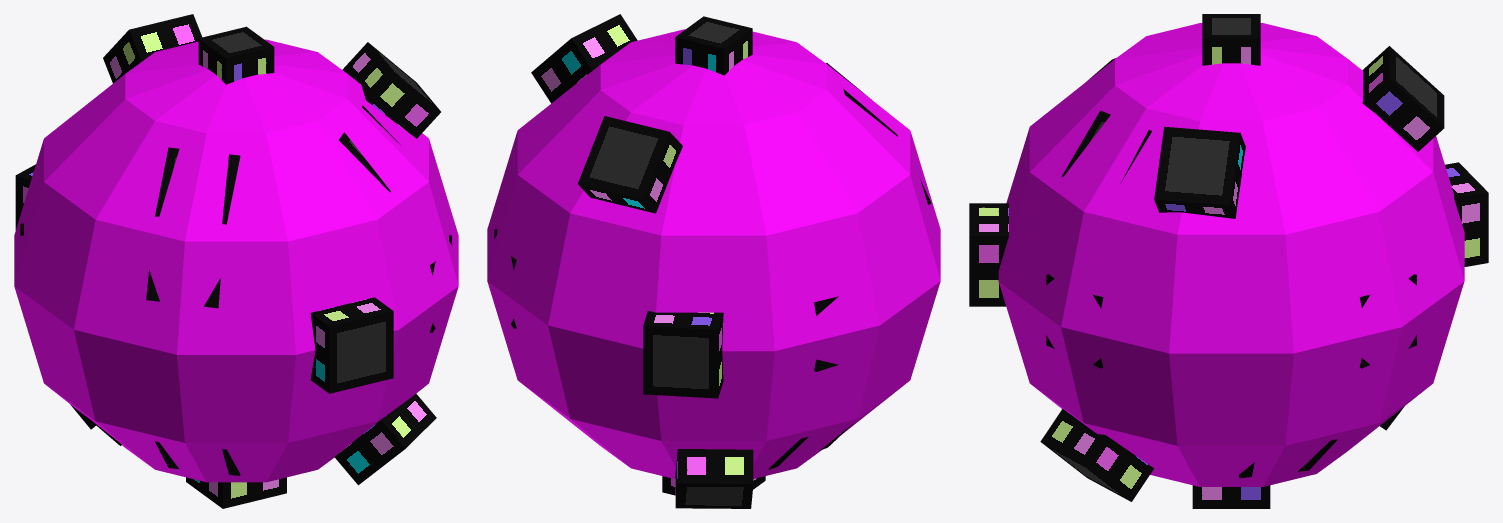
Rendered from World_4_Model.fbx.
3 views of the same model, side by side, from view 1: azimuth 30°, elevation 25°; view 2: azimuth 150°, elevation 25°; view 3: azimuth 270°, elevation 25° (orthographic). The views are drawn at different scales.
Visible parts, largest first — view 1: Glowing_3, Tall_Fat_2, Tall_Fat_5, Tall_Fat_3_1, Tall_1, Tall_Fat_4, Tall_Fat_3, Fat_6_1, Tall_Fat_1, Fat_4, Fat_5; view 2: Glowing_3, Tall_Fat_4, Tall_Fat_1, Tall_Fat_5_1, Tall_Fat_5, Tall_1; view 3: Glowing_3, Tall_Fat_5, Tall_Fat_4, Tall_Fat_3_1, Tall_Fat_2, Tall_1, Tall_Fat_1, Tall_Fat_3, Fat_4.
Boxes of the visible parts, bbox=[...] form: Glowing_3: bbox=[14, 39, 458, 482]; Tall_Fat_2: bbox=[310, 297, 393, 393]; Tall_Fat_5: bbox=[342, 42, 440, 138]; Tall_Fat_3_1: bbox=[334, 393, 436, 485]; Tall_1: bbox=[198, 26, 274, 84]; Tall_Fat_4: bbox=[103, 14, 202, 83]; Tall_Fat_3: bbox=[186, 477, 286, 508]; Fat_6_1: bbox=[155, 147, 240, 224]; Tall_Fat_1: bbox=[15, 164, 35, 229]; Fat_4: bbox=[339, 106, 400, 191]; Fat_5: bbox=[146, 269, 220, 308]; Glowing_3: bbox=[487, 29, 940, 478]; Tall_Fat_4: bbox=[578, 116, 682, 213]; Tall_Fat_1: bbox=[643, 311, 723, 398]; Tall_Fat_5_1: bbox=[675, 449, 753, 508]; Tall_Fat_5: bbox=[531, 14, 637, 103]; Tall_1: bbox=[675, 16, 752, 75]; Glowing_3: bbox=[998, 23, 1464, 486]; Tall_Fat_5: bbox=[1154, 126, 1245, 218]; Tall_Fat_4: bbox=[1362, 46, 1444, 151]; Tall_Fat_3_1: bbox=[1040, 408, 1153, 501]; Tall_Fat_2: bbox=[969, 203, 1008, 306]; Tall_1: bbox=[1202, 14, 1260, 65]; Tall_Fat_1: bbox=[1445, 162, 1488, 266]; Tall_Fat_3: bbox=[1192, 485, 1270, 508]; Fat_4: bbox=[1061, 110, 1151, 183].
Size of the model in its own units: 150 by 166 by 167.
Materials: 5 (5 with a texture image).
